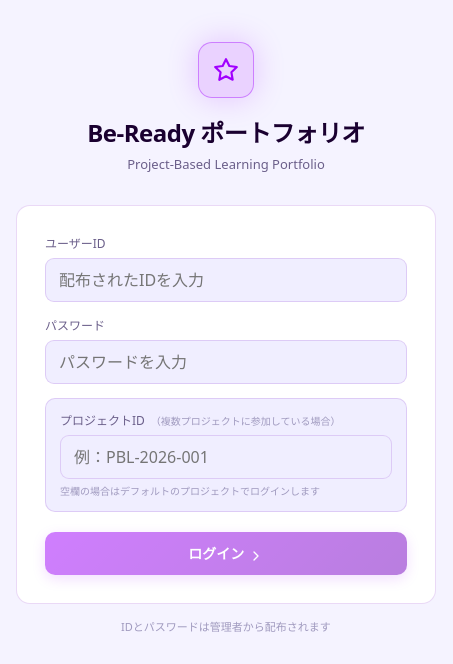
it: App - ログインエラー › 存在しないユーザーIDの場合 "IDが存在しません" エラーを表示する
In the field with placeholder "配布されたIDを入力": (226, 280) [45,258,407,302], type "nonexistent-user"
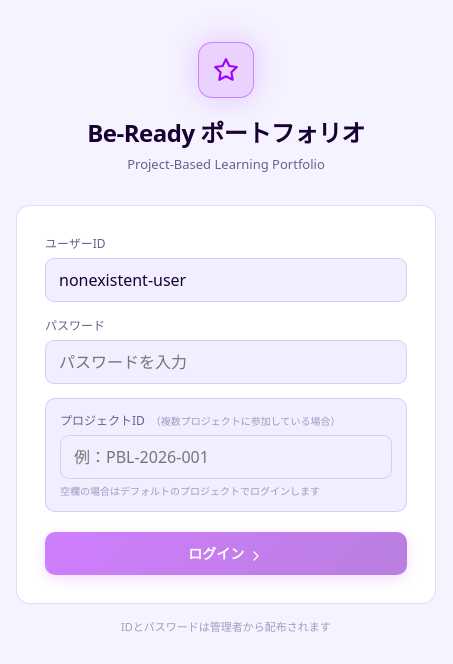
In the password field with placeholder "パスワードを入力": (226, 362) [45,340,407,384], type "anypassword"
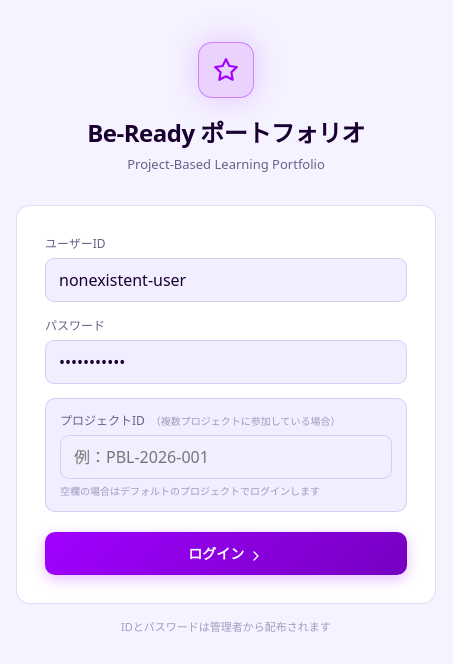
Click the button "ログイン": (226, 554) [45,532,407,575]
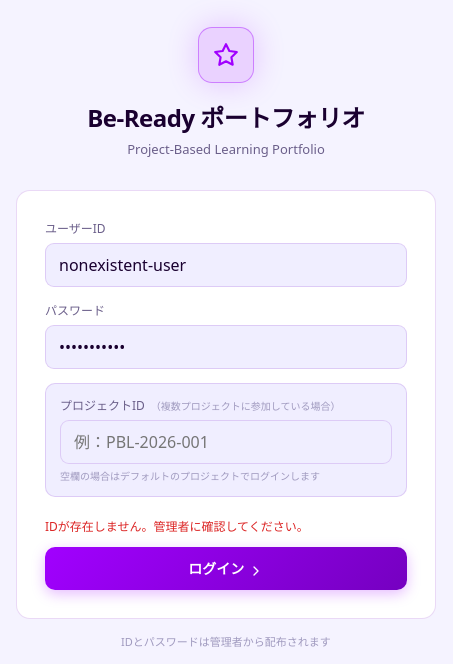
Expected: the text "IDが存在しません。管理者に確認してください。" is shown, [45,518,309,535]
